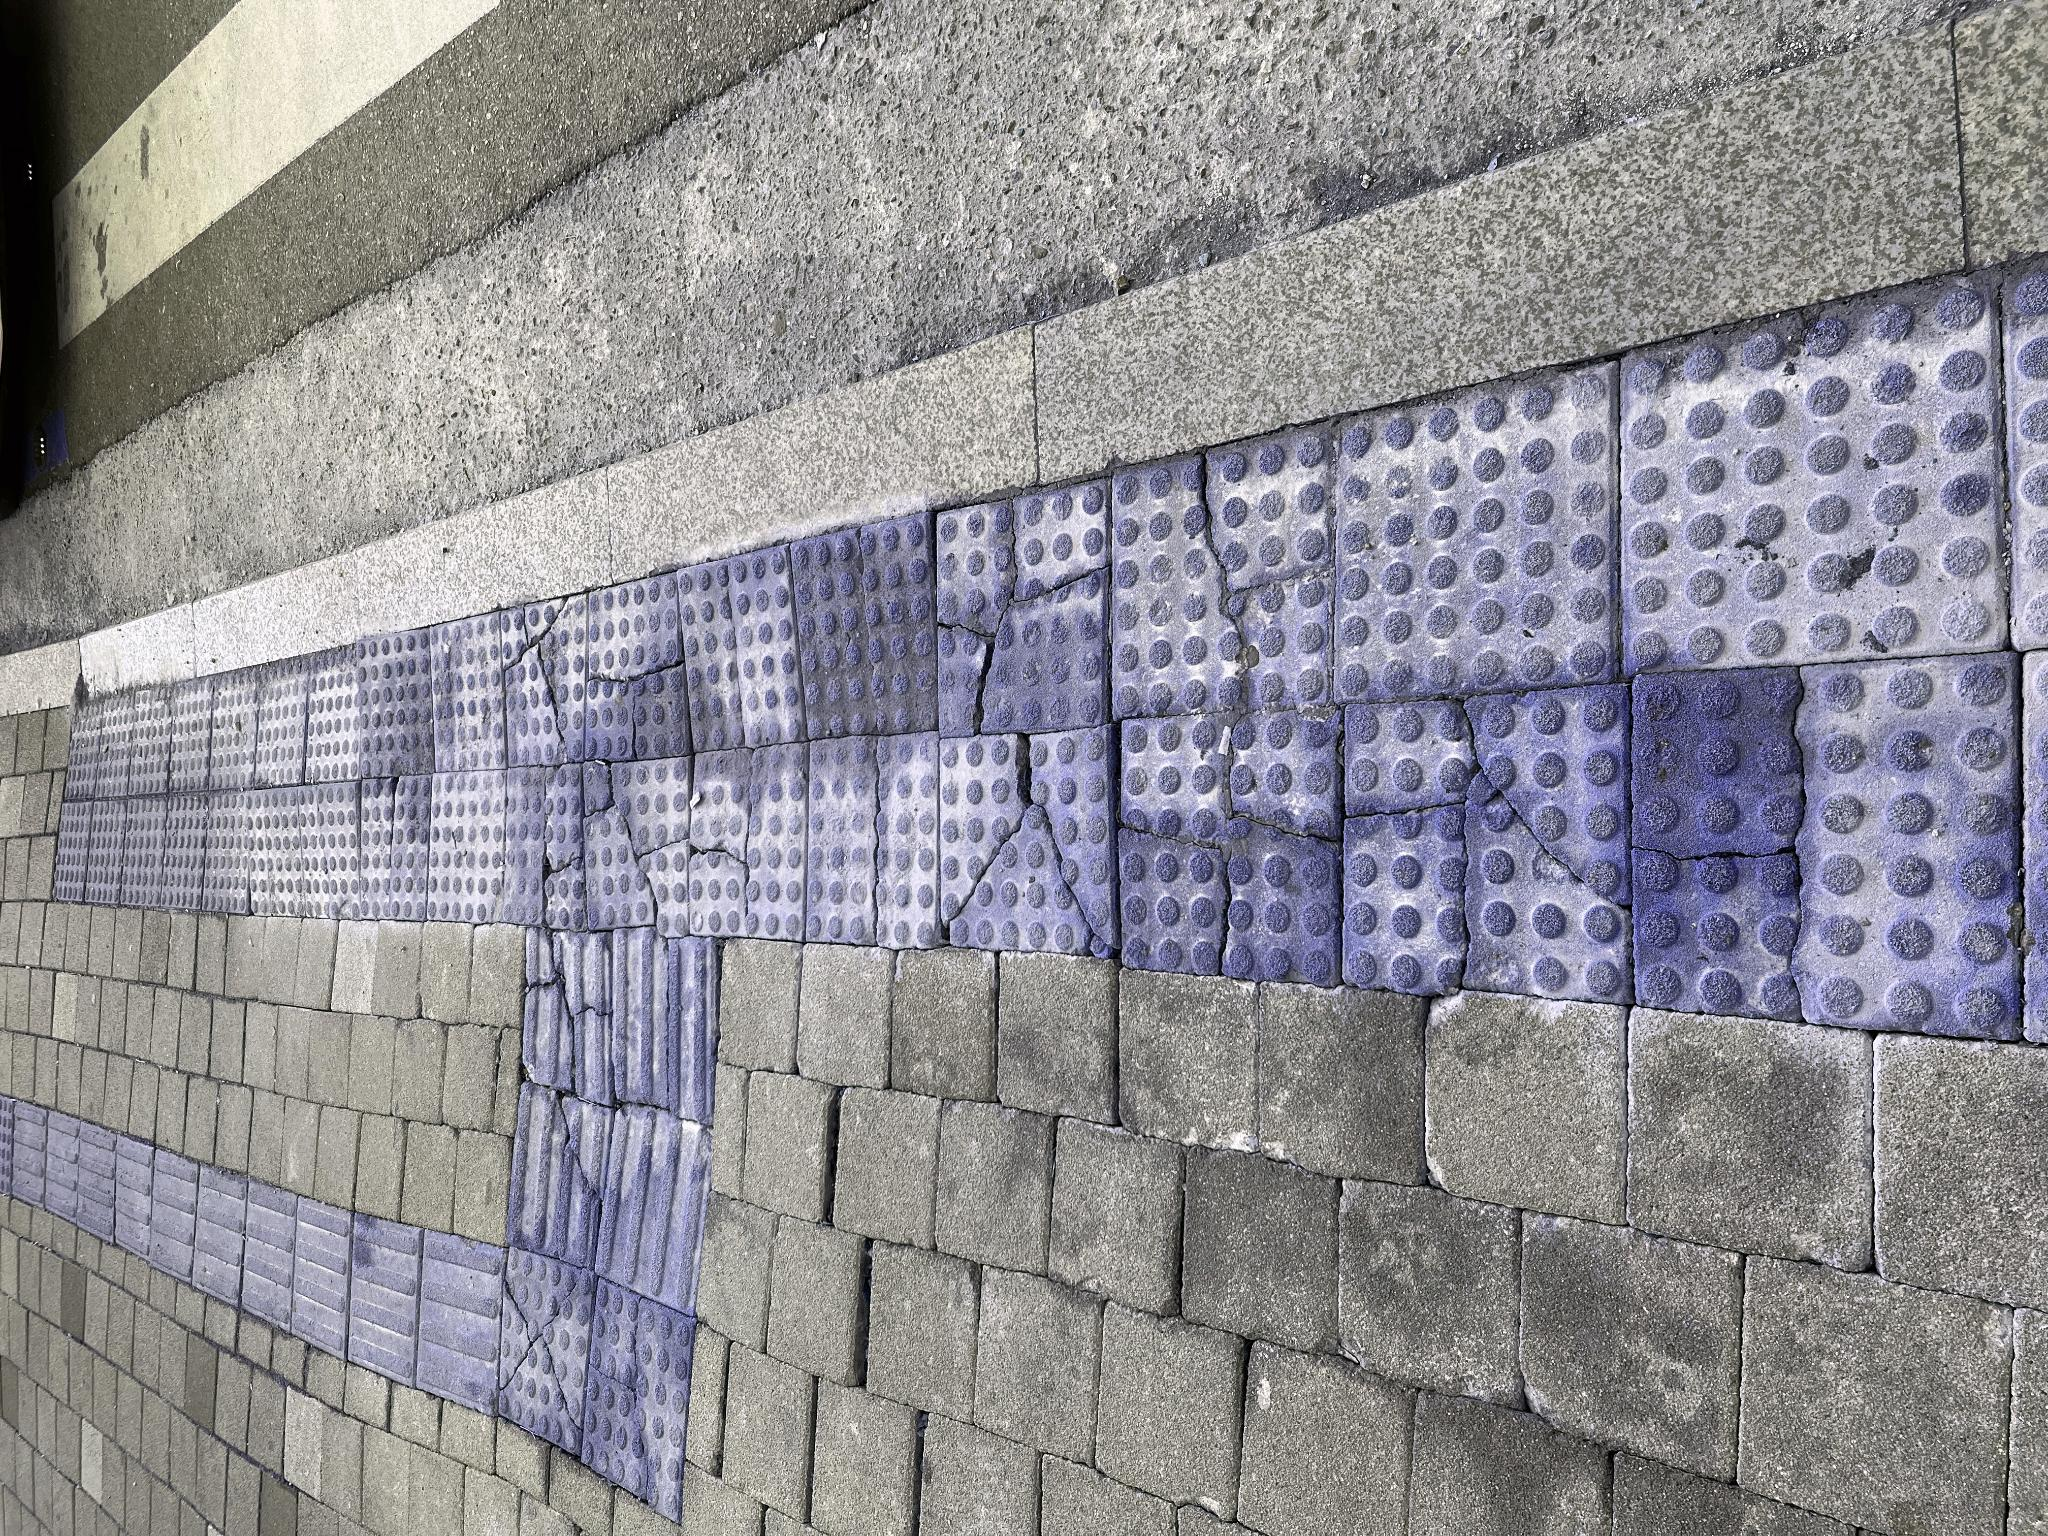Stop block broken: (821, 1113, 1113, 1326), (555, 1125, 826, 1338), (543, 1346, 845, 1536), (803, 941, 1056, 1105), (581, 944, 808, 1113), (797, 792, 1022, 936), (590, 808, 803, 937), (13, 582, 258, 692), (597, 692, 792, 803), (776, 586, 963, 687), (82, 500, 287, 592), (603, 586, 776, 687), (771, 503, 940, 584), (606, 505, 772, 586), (618, 361, 760, 428)
Stop block normal: (839, 1338, 1156, 1536), (784, 678, 990, 805), (616, 426, 764, 503), (766, 431, 922, 503), (760, 358, 905, 432), (618, 298, 751, 358), (753, 305, 892, 360), (621, 247, 748, 305), (750, 255, 879, 308), (747, 210, 868, 258), (624, 202, 743, 247), (627, 161, 742, 207), (743, 169, 860, 213), (629, 121, 739, 166), (742, 129, 850, 171), (632, 86, 735, 126), (739, 95, 843, 132)
Straight block broken: (413, 615, 605, 715), (268, 508, 452, 610), (432, 524, 608, 610)
Straight block normal: (221, 595, 429, 710), (121, 418, 303, 503), (150, 349, 319, 421), (177, 292, 339, 349), (206, 240, 356, 295), (231, 192, 369, 245), (255, 150, 385, 195), (276, 116, 400, 152)
